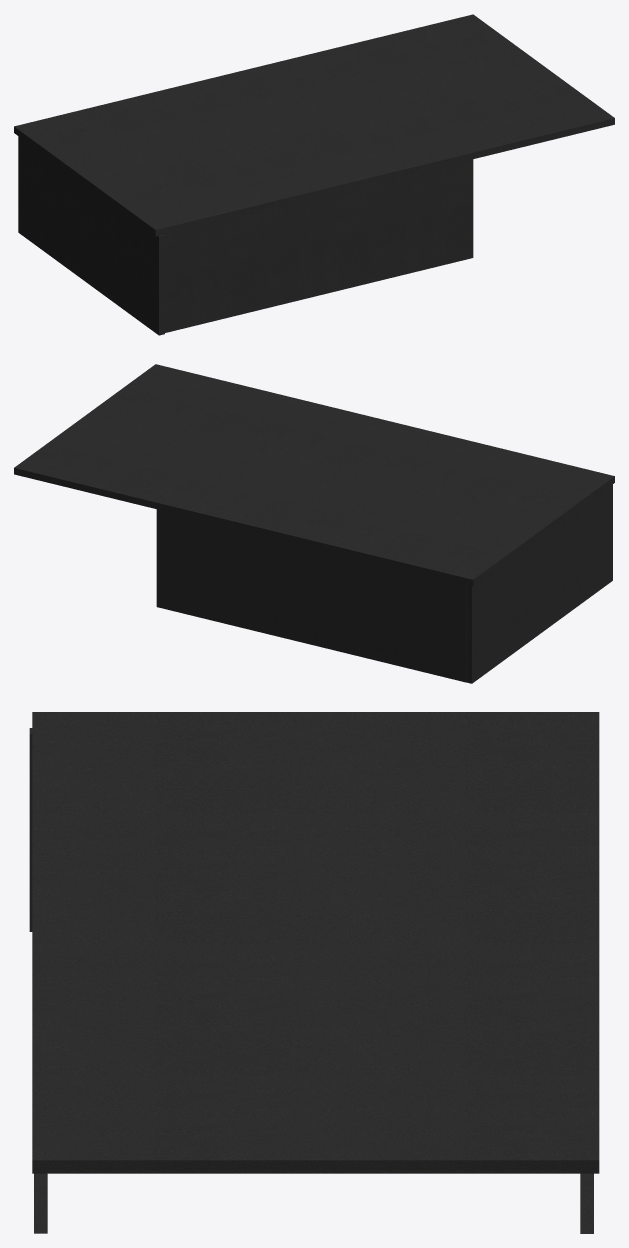
The model's file is Texture_Wall.FBX.
3 renders of one model, top to bottom at view 1: azimuth 30°, elevation 25°; view 2: azimuth 150°, elevation 25°; view 3: azimuth 270°, elevation 25°, orthographic. The views are drawn at different scales.
Visible parts, largest first — view 1: Texture_Wall; view 2: Texture_Wall; view 3: Texture_Wall.
Boxes of the visible parts, <box> form: Texture_Wall: <box>14,14,614,335</box>; Texture_Wall: <box>14,364,614,683</box>; Texture_Wall: <box>29,712,599,1233</box>.
Size of the model in its own units: 1239 by 272 by 665.
